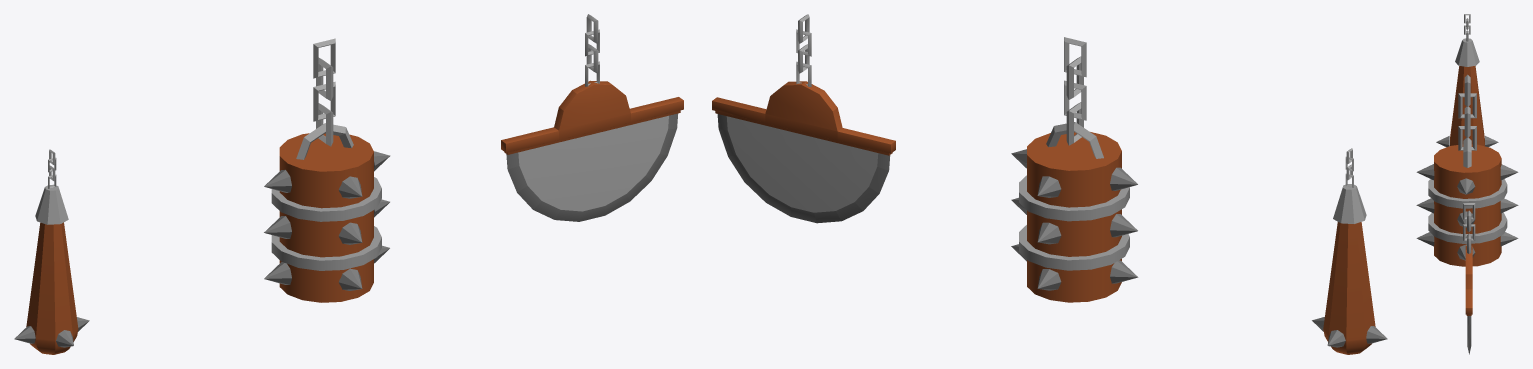
File: obstacles.fbx
The picture shows the model from 3 angles, left to right: view 1: azimuth 30°, elevation 25°; view 2: azimuth 150°, elevation 25°; view 3: azimuth 270°, elevation 25°; orthographic projection. The views are drawn at different scales.
Visible parts, largest first — view 1: Obstacles - 3_Model_Obstacles - 1_Material_0, Obstacles - 2_Model_Obstacles - 1_Material_0, Obstacles - 1_Model_Obstacles - 1_Material_0; view 2: Obstacles - 3_Model_Obstacles - 1_Material_0, Obstacles - 2_Model_Obstacles - 1_Material_0, Obstacles - 1_Model_Obstacles - 1_Material_0; view 3: Obstacles - 3_Model_Obstacles - 1_Material_0, Obstacles - 1_Model_Obstacles - 1_Material_0, Obstacles - 2_Model_Obstacles - 1_Material_0.
Boxes of the visible parts, box(x1,y1,x2,y2) form: Obstacles - 3_Model_Obstacles - 1_Material_0: box(264, 38, 390, 302); Obstacles - 2_Model_Obstacles - 1_Material_0: box(501, 14, 683, 221); Obstacles - 1_Model_Obstacles - 1_Material_0: box(14, 149, 89, 354); Obstacles - 3_Model_Obstacles - 1_Material_0: box(1011, 37, 1138, 302); Obstacles - 2_Model_Obstacles - 1_Material_0: box(712, 14, 895, 223); Obstacles - 1_Model_Obstacles - 1_Material_0: box(1312, 148, 1387, 354); Obstacles - 3_Model_Obstacles - 1_Material_0: box(1416, 74, 1518, 266); Obstacles - 1_Model_Obstacles - 1_Material_0: box(1436, 14, 1498, 147); Obstacles - 2_Model_Obstacles - 1_Material_0: box(1463, 203, 1475, 354).
Bounding box in the file's own units: 422 × 148 × 78.28.
